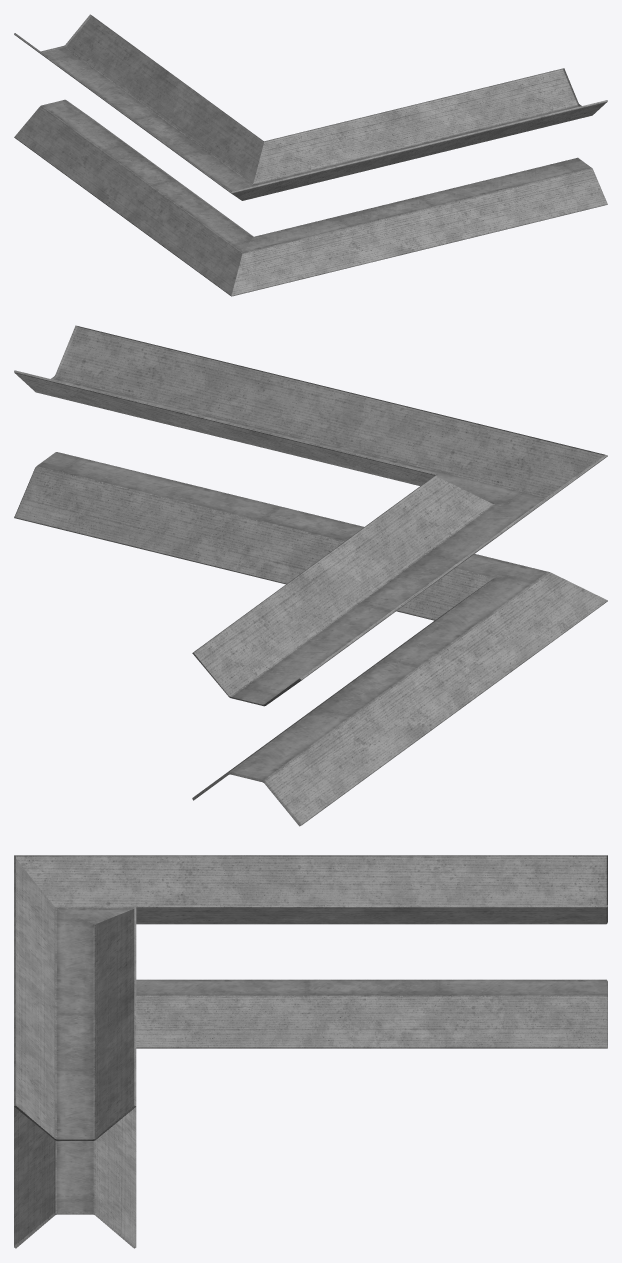
File: SM_Opening_03.fbx
The picture shows the model from 3 angles, top to bottom: view 1: azimuth 30°, elevation 25°; view 2: azimuth 150°, elevation 25°; view 3: azimuth 270°, elevation 25°; orthographic projection. The views are drawn at different scales.
Visible parts, largest first — view 1: SM_Opening_03; view 2: SM_Opening_03; view 3: SM_Opening_03.
Part boxes in pixels (bbox=[...]): SM_Opening_03: bbox=[14, 14, 607, 296]; SM_Opening_03: bbox=[14, 325, 607, 826]; SM_Opening_03: bbox=[14, 855, 607, 1248].
Size of the model in its own units: 502 by 134 by 502.
